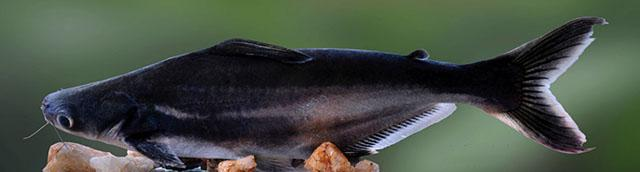Mulut: (28, 84, 98, 156)
Sirip Dada: (122, 124, 188, 172)
Sirip Punggung: (203, 34, 317, 76)
